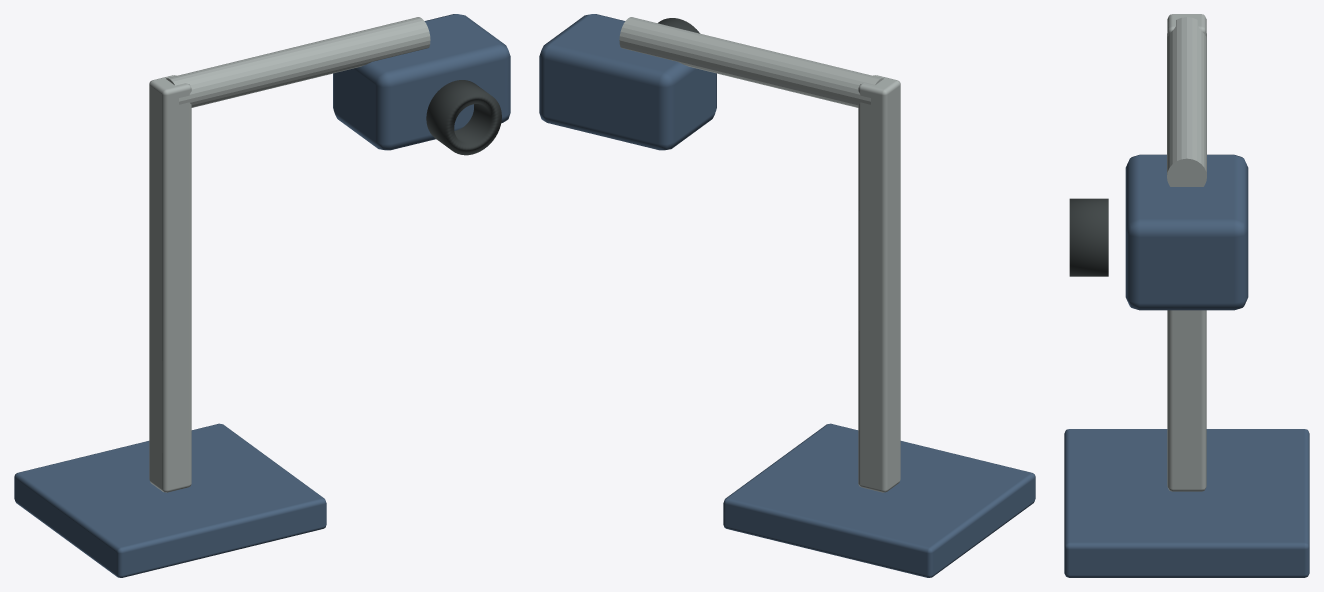
Rendered from spacecraft-parachute-packing-hall-spacecraft-parachute-278cca90__32101.glb.
The picture shows the model from 3 angles, left to right: view 1: azimuth 30°, elevation 25°; view 2: azimuth 150°, elevation 25°; view 3: azimuth 270°, elevation 25°; orthographic projection. The views are drawn at different scales.
Visible parts, largest first — view 1: spacecraft-parachute-packing-hall-inspection-camera-boom; view 2: spacecraft-parachute-packing-hall-inspection-camera-boom; view 3: spacecraft-parachute-packing-hall-inspection-camera-boom.
Boxes of the visible parts, <box> form: spacecraft-parachute-packing-hall-inspection-camera-boom: <box>14,14,510,577</box>; spacecraft-parachute-packing-hall-inspection-camera-boom: <box>539,14,1035,577</box>; spacecraft-parachute-packing-hall-inspection-camera-boom: <box>1064,14,1309,577</box>.
Bounding box in the file's own units: 0.505 × 0.498 × 0.22.
